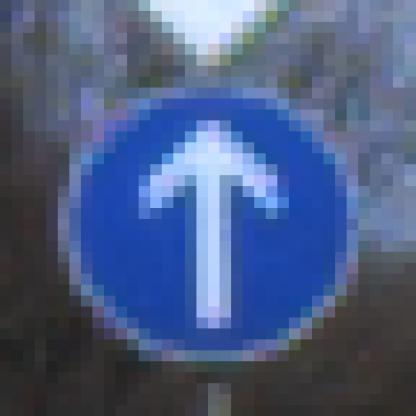AheadOnly: (59, 67, 359, 362)
